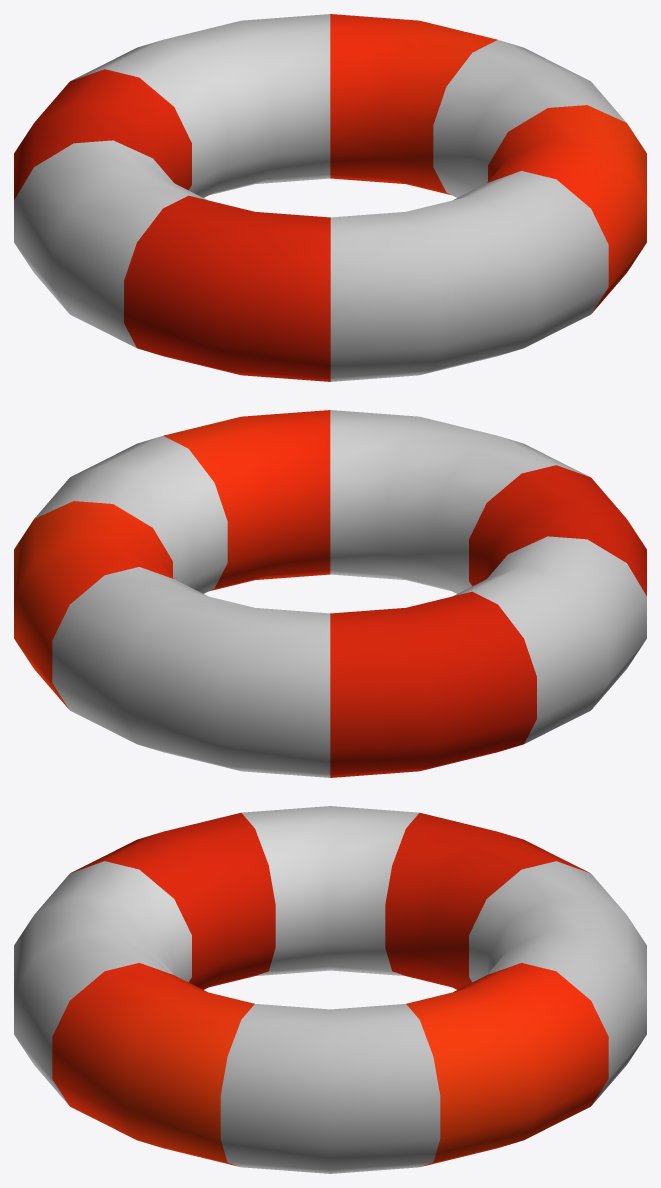
File: Life_Preserver_01.fbx
3 renders of one model, top to bottom at view 1: azimuth 30°, elevation 25°; view 2: azimuth 150°, elevation 25°; view 3: azimuth 270°, elevation 25°, orthographic.
Visible parts, largest first — view 1: Life_Preserver_01; view 2: Life_Preserver_01; view 3: Life_Preserver_01.
Part boxes in pixels (left/top/right/bottom): Life_Preserver_01: left=14, top=14, right=646, bottom=381; Life_Preserver_01: left=14, top=410, right=646, bottom=777; Life_Preserver_01: left=14, top=806, right=646, bottom=1173.
Bounding box in the file's own units: 104 × 26.36 × 102.
